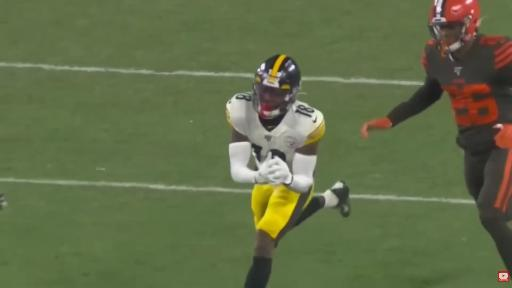Helmet: (252, 55, 301, 118), (429, 0, 480, 53)
Jersey: (423, 35, 511, 150), (227, 93, 325, 169)
Player: (362, 0, 511, 270), (227, 55, 350, 287), (0, 194, 7, 210)
